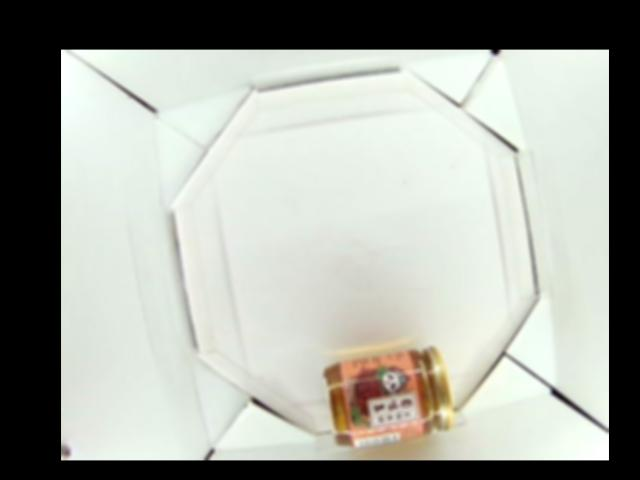Bottle: (320, 346, 453, 445)
